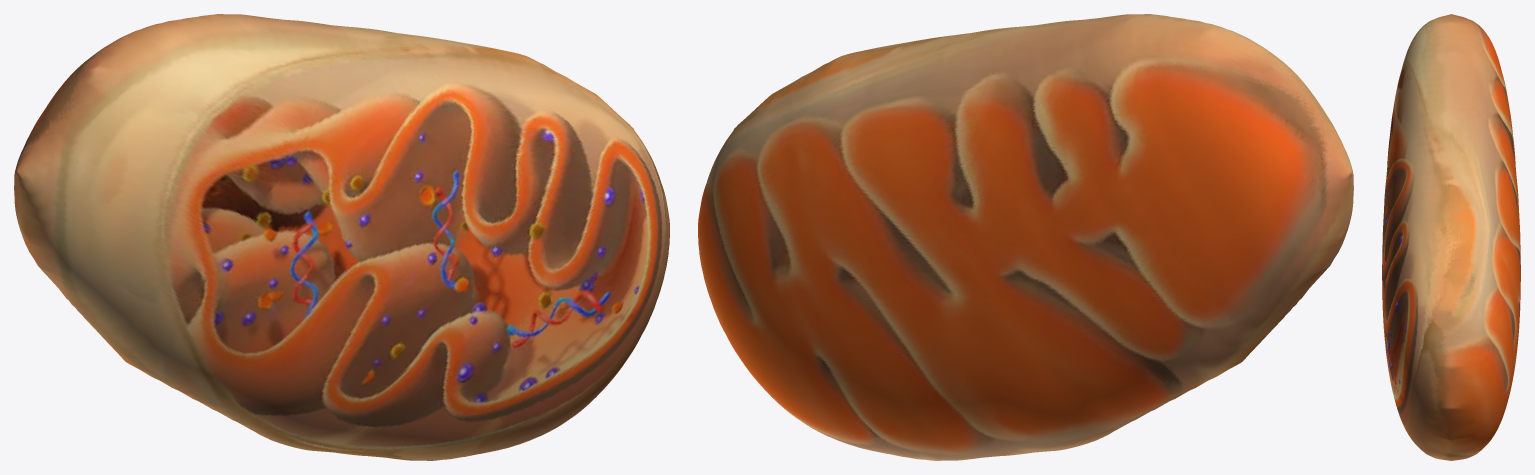
Rendered from PRP_Mitochondrion.glb.
The picture shows the model from 3 angles, left to right: view 1: azimuth 30°, elevation 25°; view 2: azimuth 150°, elevation 25°; view 3: azimuth 270°, elevation 25°; orthographic projection. The views are drawn at different scales.
Visible parts, largest first — view 1: Object_5; view 2: Object_5; view 3: Object_5.
Part boxes in pixels (box(x1,y1,x2,y2)): Object_5: box(14, 14, 669, 460); Object_5: box(698, 14, 1353, 460); Object_5: box(1382, 14, 1520, 460).
Bounding box in the file's own units: 0.4064 × 0.2962 × 0.1156.
Materials: 1 (1 with a texture image).
